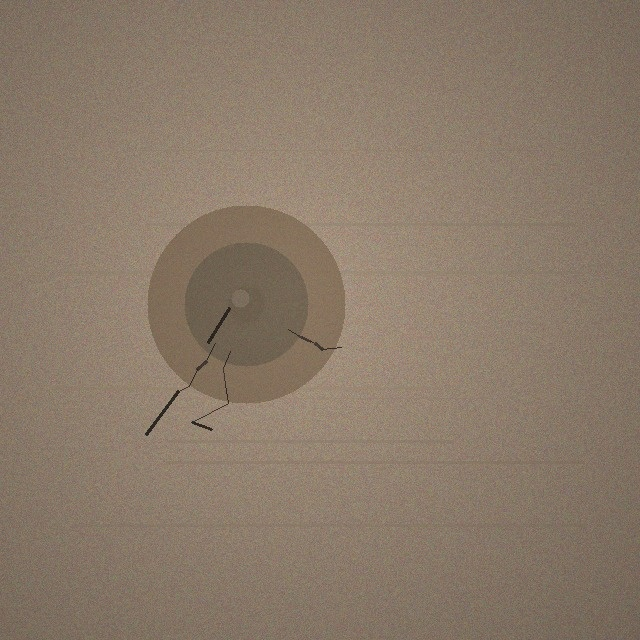crack: (147, 205, 345, 403)
